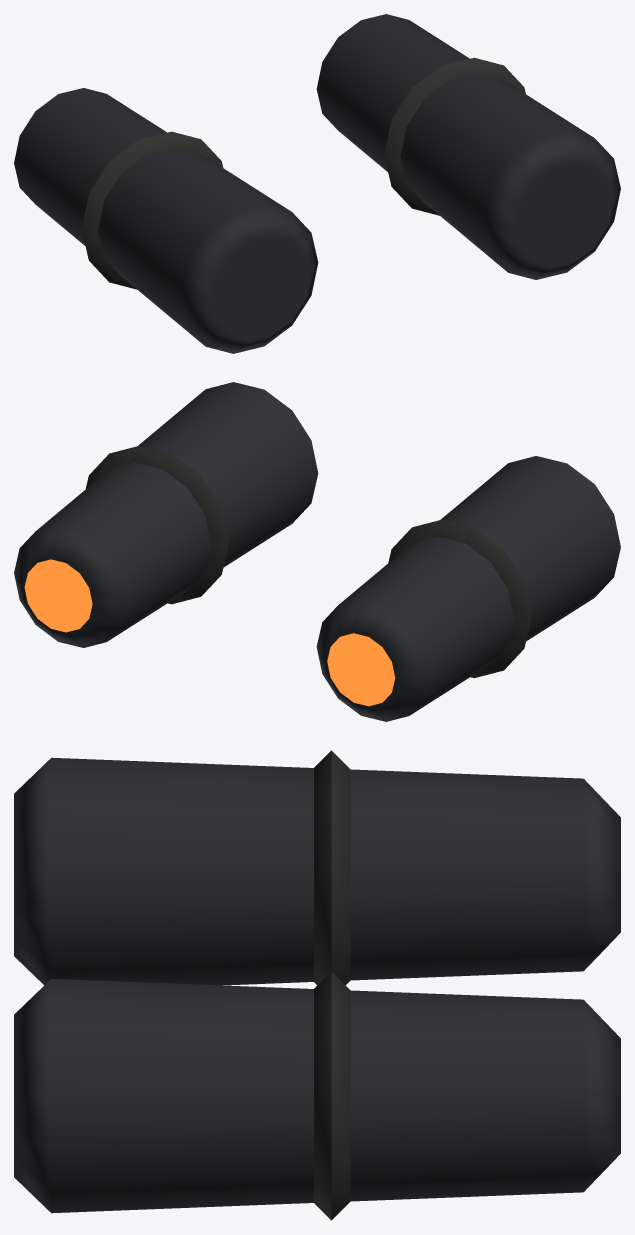
Rendered from Engine_Standard.fbx.
The picture shows the model from 3 angles, top to bottom: view 1: azimuth 30°, elevation 25°; view 2: azimuth 150°, elevation 25°; view 3: azimuth 270°, elevation 25°; orthographic projection. The views are drawn at different scales.
Parts seen in each view (by area): view 1: Engine_Standard; view 2: Engine_Standard; view 3: Engine_Standard.
Boxes of the visible parts, bbox=[...] form: Engine_Standard: bbox=[14, 14, 620, 353]; Engine_Standard: bbox=[14, 382, 620, 721]; Engine_Standard: bbox=[14, 750, 620, 1220].
Bounding box in the file's own units: 0.833 × 0.2662 × 0.65.
